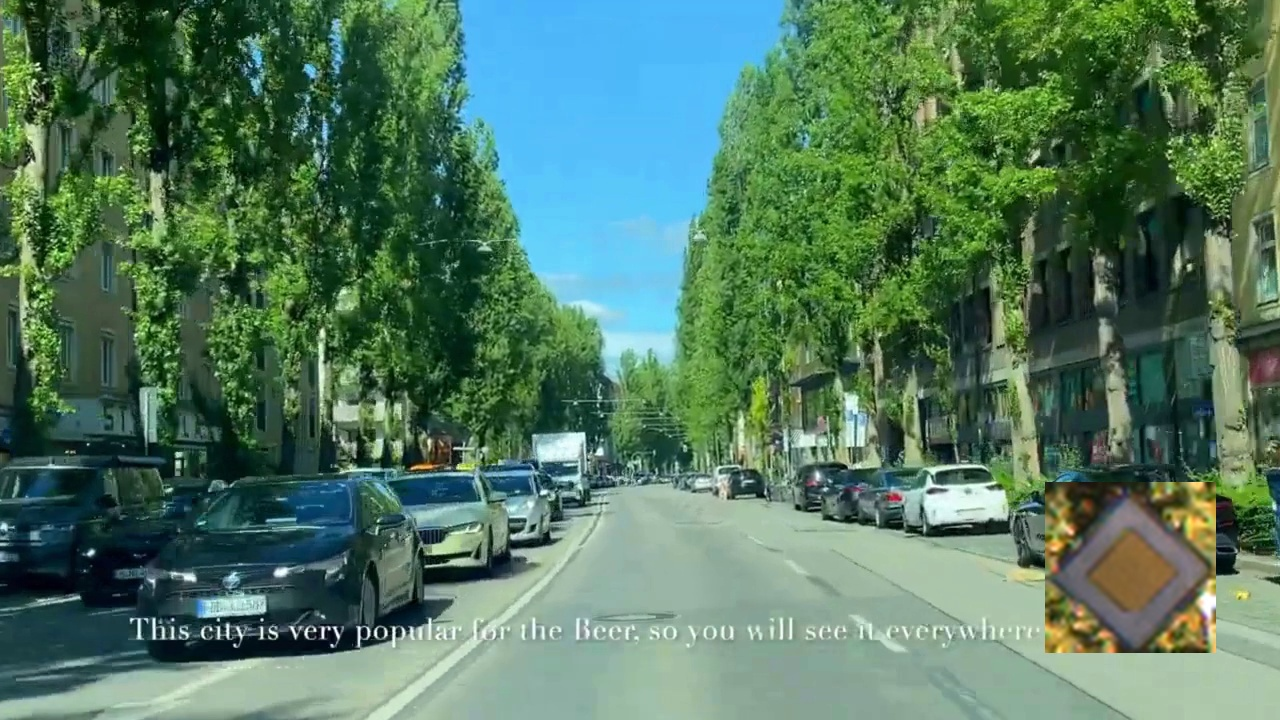Priority road: (1045, 482, 1216, 653)
